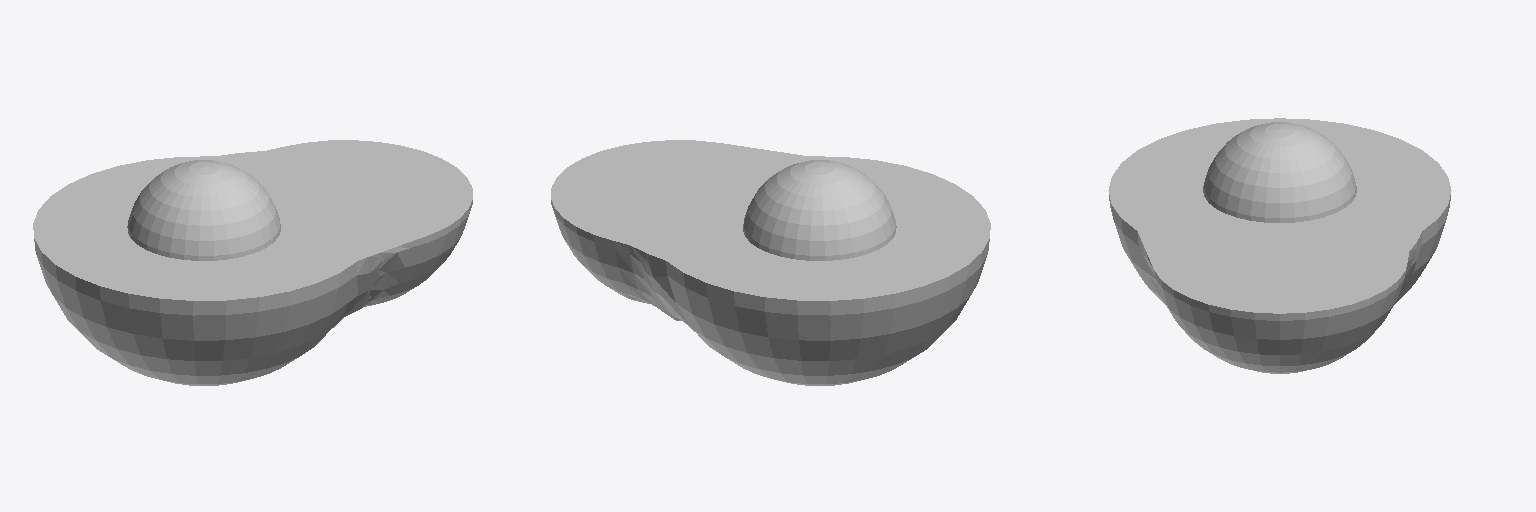
File: aguacate2.obj
3 renders of one model, left to right at view 1: azimuth 30°, elevation 25°; view 2: azimuth 150°, elevation 25°; view 3: azimuth 270°, elevation 25°, orthographic.
Parts seen in each view (by area): view 1: Sphere; view 2: Sphere; view 3: Sphere.
Boxes of the visible parts, x1,y1,x2,y2 form: Sphere: [33, 140, 472, 385]; Sphere: [551, 140, 990, 385]; Sphere: [1108, 118, 1451, 373].
Bounding box in the file's own units: 2.67 × 1.29 × 1.98.